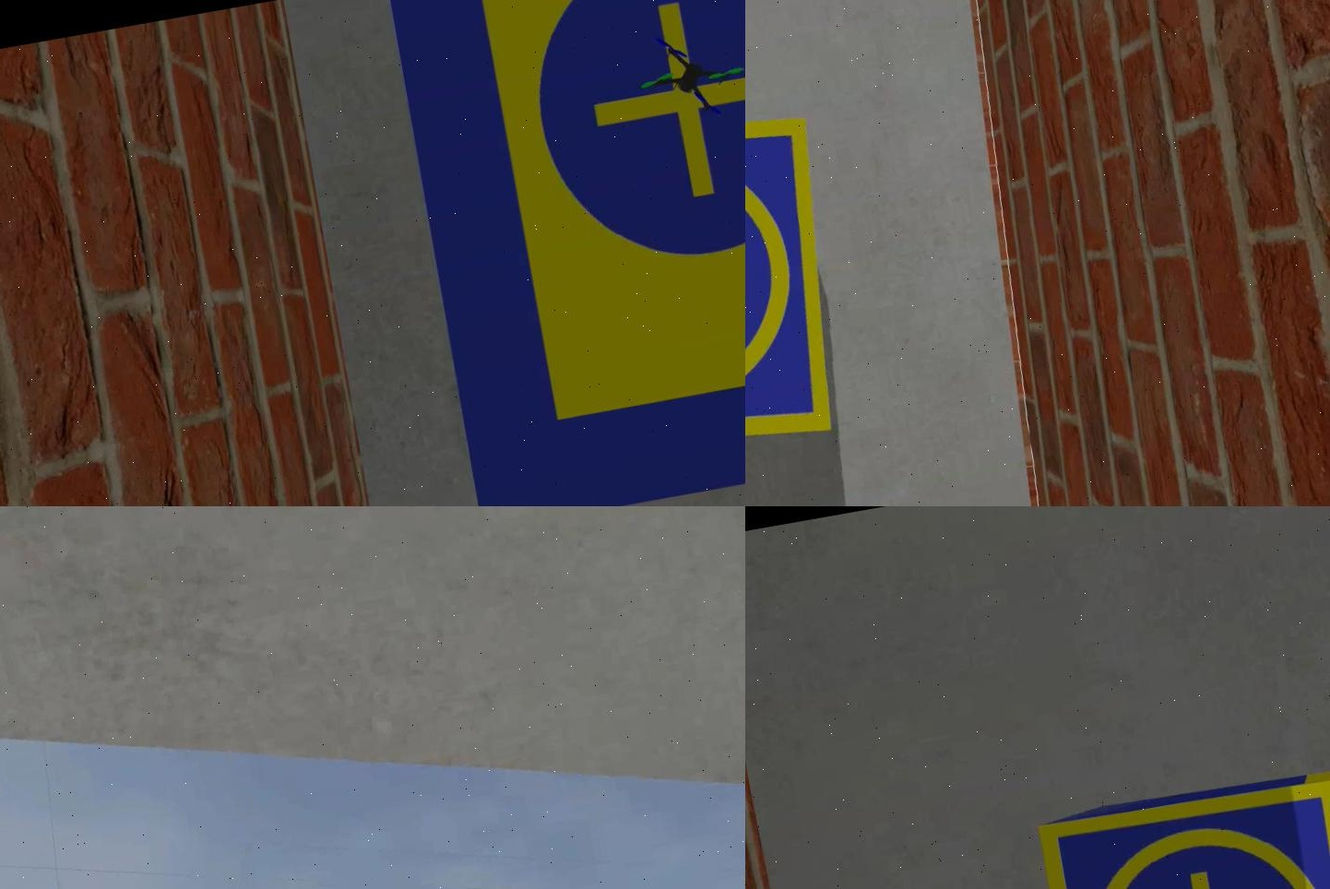large_base: (385, 1, 744, 506)
small_base: (744, 90, 866, 494), (1036, 772, 1328, 889)
